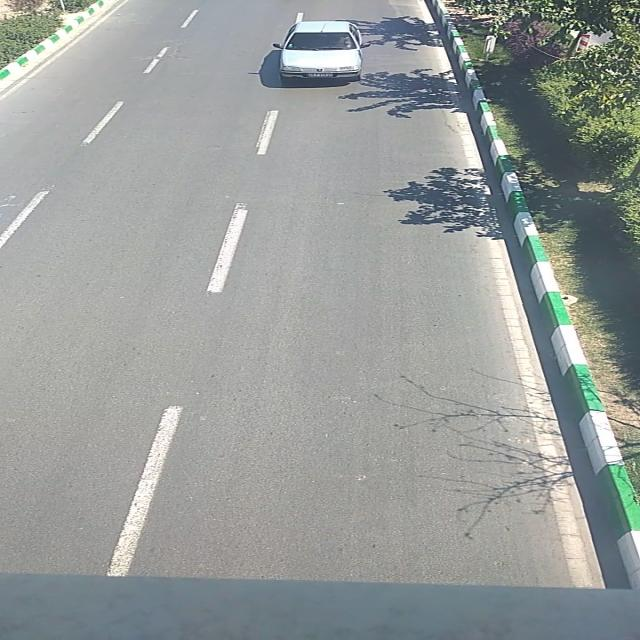car: (273, 21, 370, 82)
